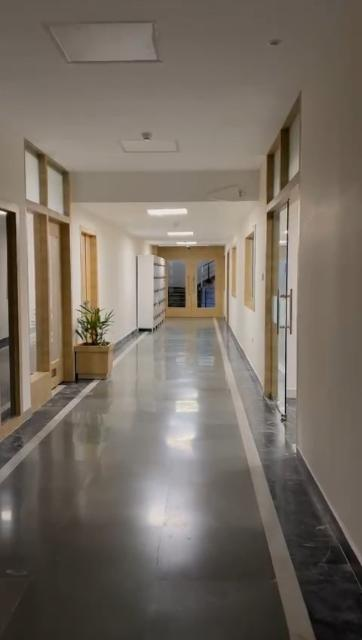door: (18, 140, 76, 390), (262, 132, 300, 416), (164, 246, 222, 320)
floor: (0, 315, 362, 640)
object: (76, 294, 112, 388)
wall: (302, 99, 362, 531), (106, 227, 138, 337)
